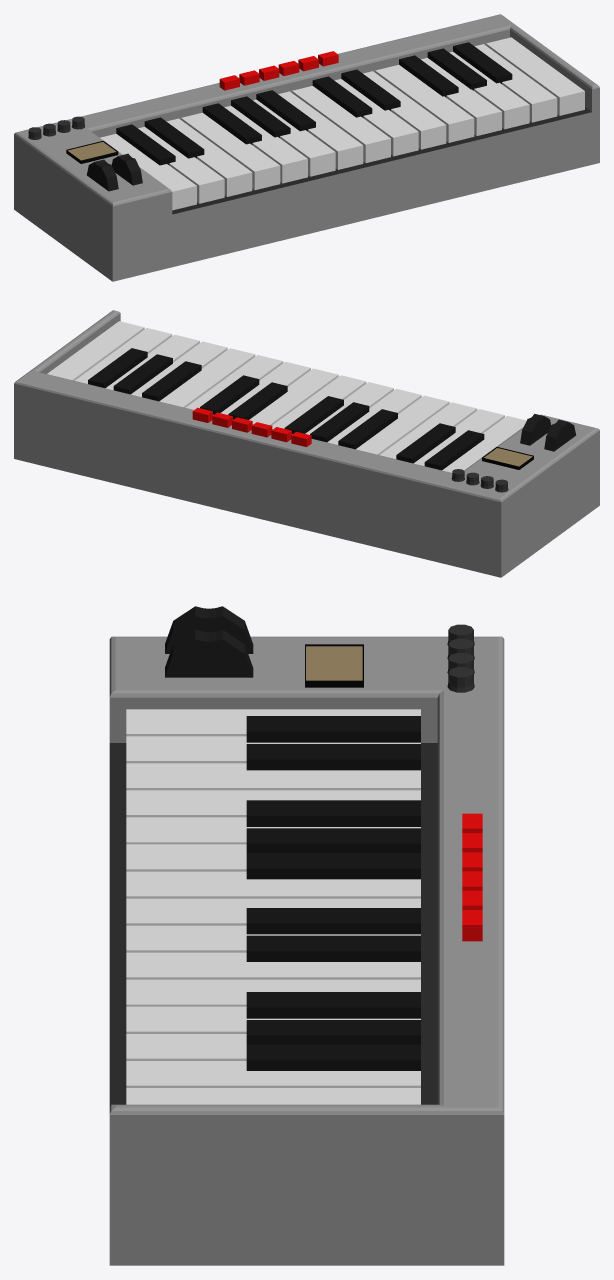
The model's file is Midi Keyboard18.fbx.
3 views of the same model, one above another, from view 1: azimuth 30°, elevation 25°; view 2: azimuth 150°, elevation 25°; view 3: azimuth 270°, elevation 25° (orthographic). The views are drawn at different scales.
Parts seen in each view (by area): view 1: 49keysmidi.019; view 2: 49keysmidi.019; view 3: 49keysmidi.019.
Boxes of the visible parts, box(x1,y1,x2,y2) form: 49keysmidi.019: box(14, 14, 599, 281); 49keysmidi.019: box(14, 310, 599, 577); 49keysmidi.019: box(109, 606, 504, 1265).
Size of the model in its own units: 40.84 by 7.75 by 14.33.
